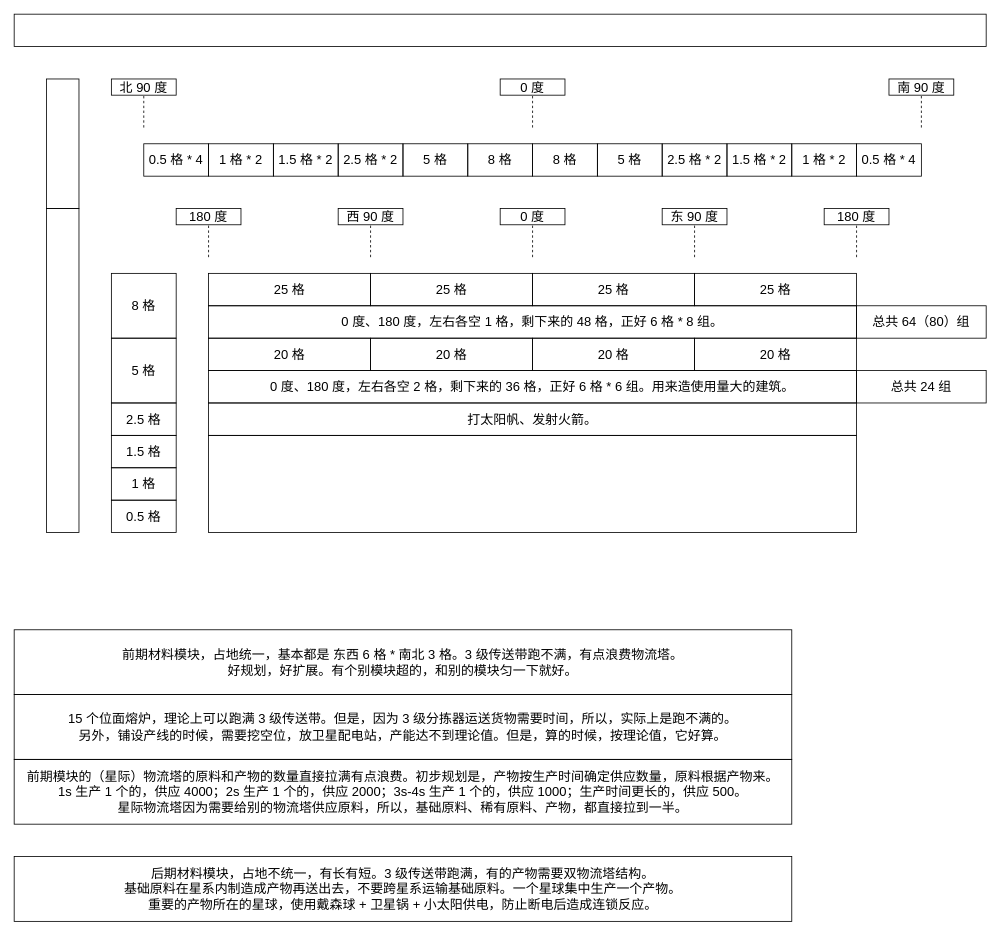
The diagram is 1000 pixels wide and 936 high, and some of its shapes have lost their labels. Each missing label, with the box of its shape:
前期放太阳能、火电站、核电站，后期放射线锅、小太阳。: (208, 435, 857, 533)
纬度: (46, 78, 79, 209)
经度: (46, 208, 79, 533)
行星建造网格（1 格 = 10 小格）: (13, 13, 986, 47)
